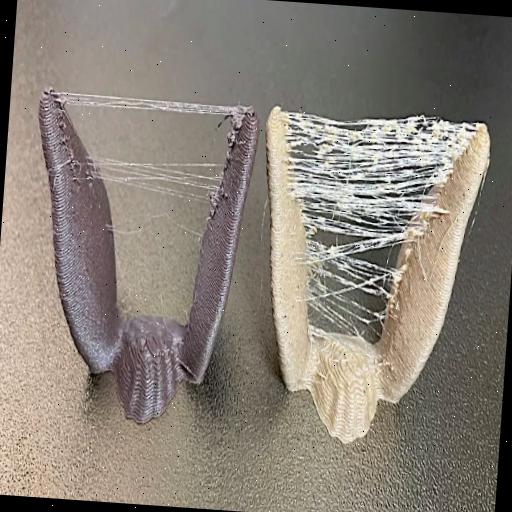stringing: (279, 107, 475, 338), (52, 91, 245, 152), (86, 156, 224, 214)
